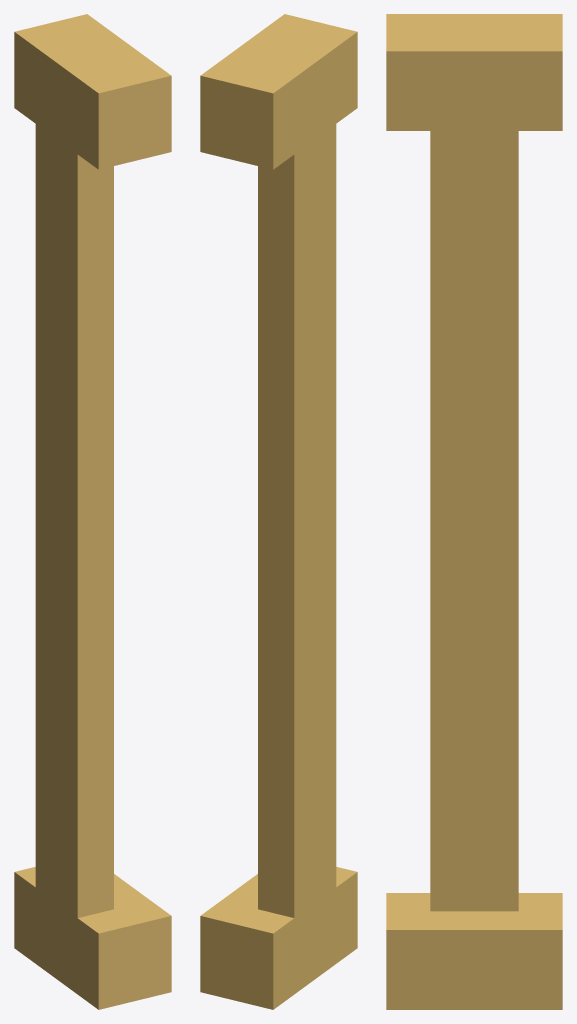
Rendered from Half pillar.fbx.
The picture shows the model from 3 angles, left to right: view 1: azimuth 30°, elevation 25°; view 2: azimuth 150°, elevation 25°; view 3: azimuth 270°, elevation 25°; orthographic projection. The views are drawn at different scales.
Visible parts, largest first — view 1: Half pillar; view 2: Half pillar; view 3: Half pillar.
Part boxes in pixels (<box>): Half pillar: <box>14,14,171,1009</box>; Half pillar: <box>200,14,357,1009</box>; Half pillar: <box>386,14,562,1009</box>.
Size of the model in its own units: 99.83 by 1200 by 200.
